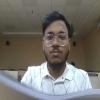notebook: (0, 68, 99, 99)
